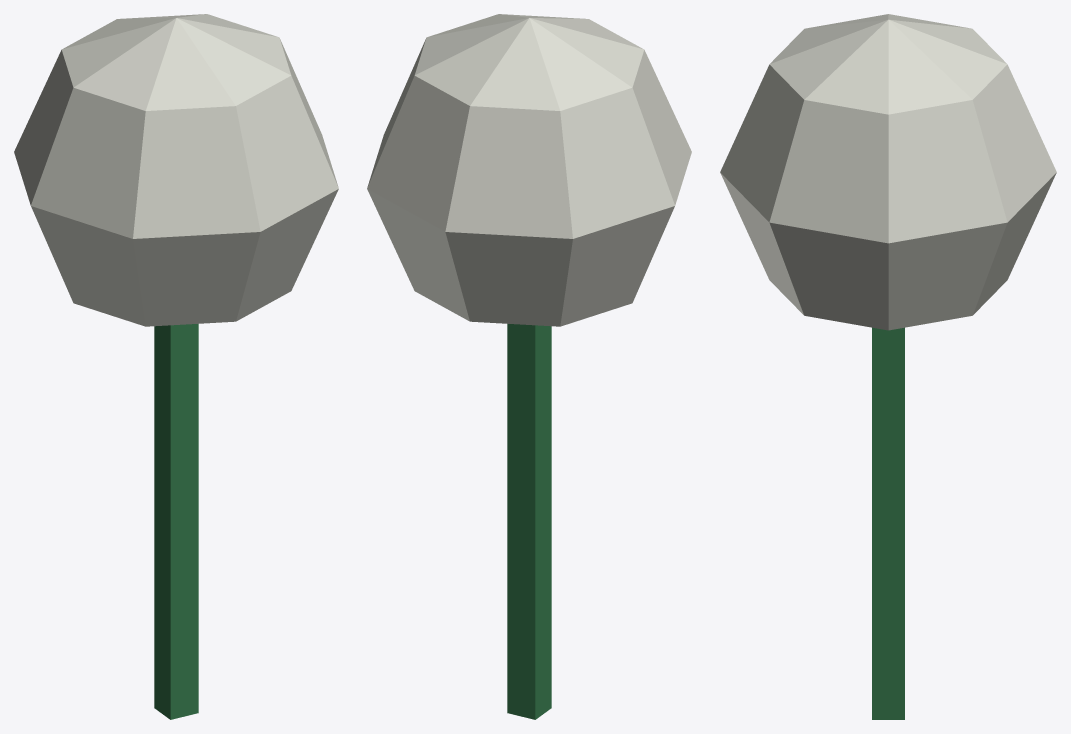
File: dandelion_short.fbx
3 views of the same model, side by side, from view 1: azimuth 30°, elevation 25°; view 2: azimuth 150°, elevation 25°; view 3: azimuth 270°, elevation 25° (orthographic).
Visible parts, largest first — view 1: pCube5; view 2: pCube5; view 3: pCube5.
Boxes of the visible parts, x1,y1,x2,y2 form: pCube5: [14, 14, 338, 719]; pCube5: [367, 14, 691, 719]; pCube5: [720, 14, 1056, 719].
Bounding box in the file's own units: 1.52 × 3.45 × 1.52.
